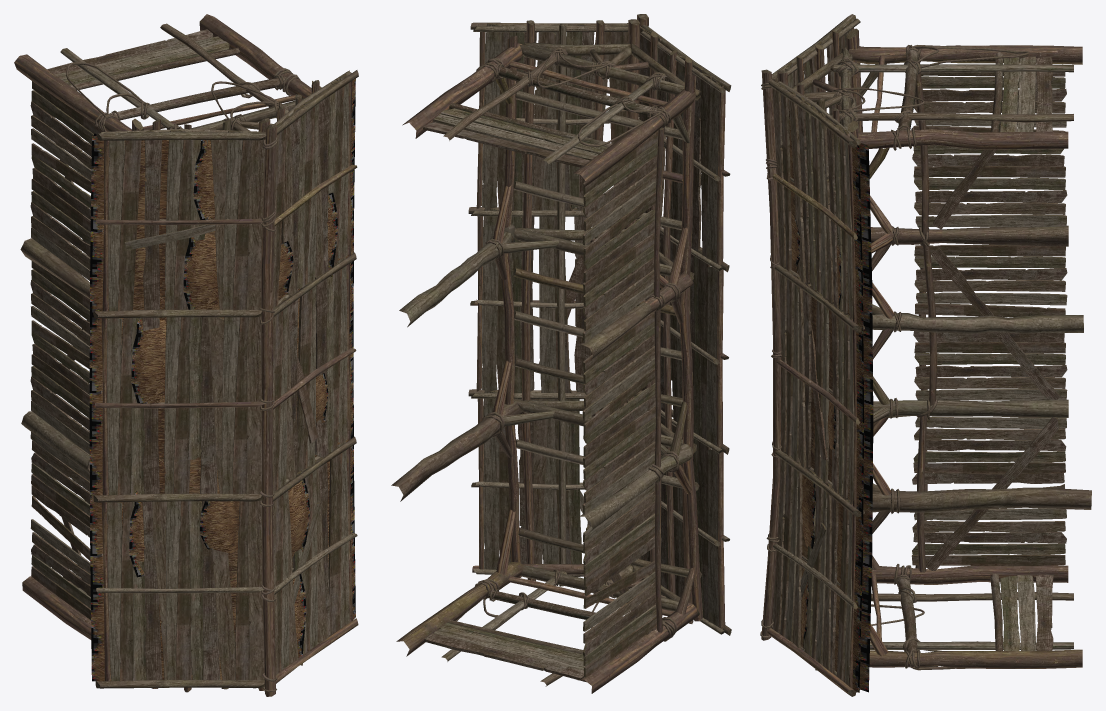
Rendered from GEN_PRO_HorseStable_13m_01_LOD0-transformed.glb.
3 views of the same model, side by side, from view 1: azimuth 30°, elevation 25°; view 2: azimuth 150°, elevation 25°; view 3: azimuth 270°, elevation 25° (orthographic).
Visible parts, largest first — view 1: GEN_PRO_HorseStable_13m_01_LOD0; view 2: GEN_PRO_HorseStable_13m_01_LOD0; view 3: GEN_PRO_HorseStable_13m_01_LOD0.
Part boxes in pixels (x1,y1,x2,y2): GEN_PRO_HorseStable_13m_01_LOD0: (14, 14, 358, 696); GEN_PRO_HorseStable_13m_01_LOD0: (391, 14, 731, 693); GEN_PRO_HorseStable_13m_01_LOD0: (760, 14, 1091, 696).
Size of the model in its own units: 0.0675 by 0.1406 by 0.0736.
Materials: 4 (4 with a texture image).
